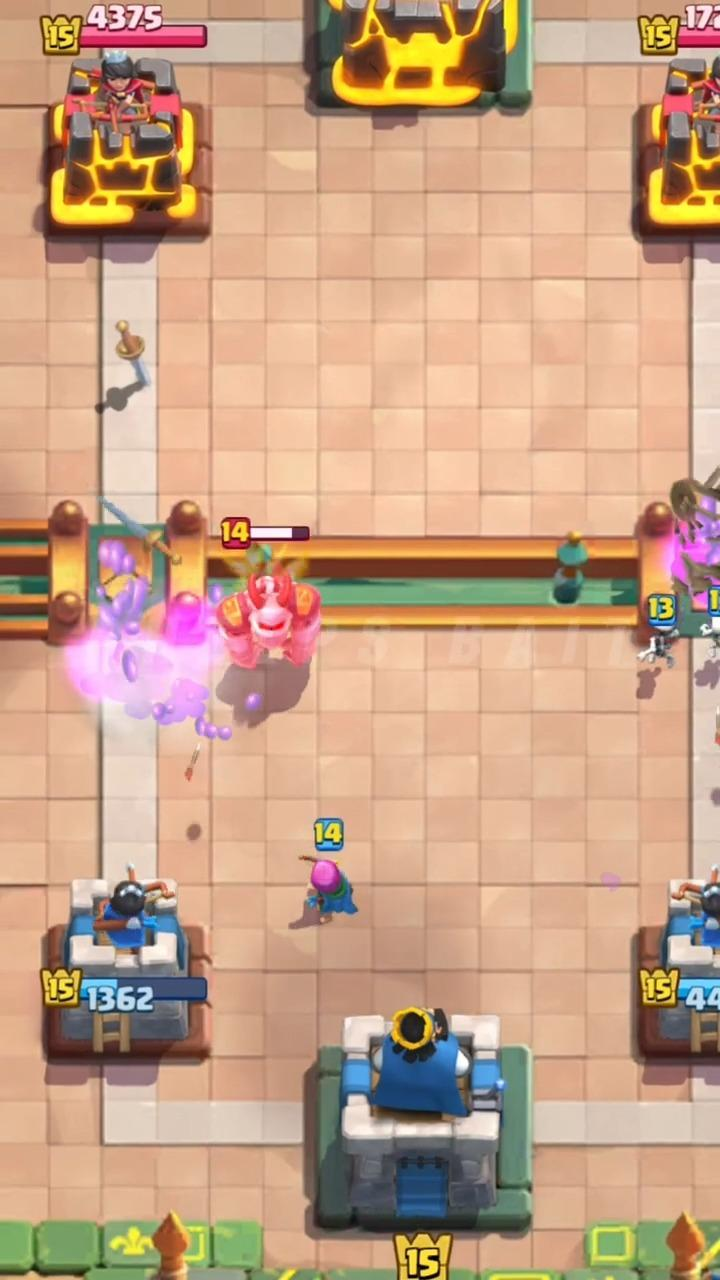archer: (305, 858, 357, 922)
mega minion: (217, 565, 320, 669)
skeleton: (638, 630, 678, 668)
